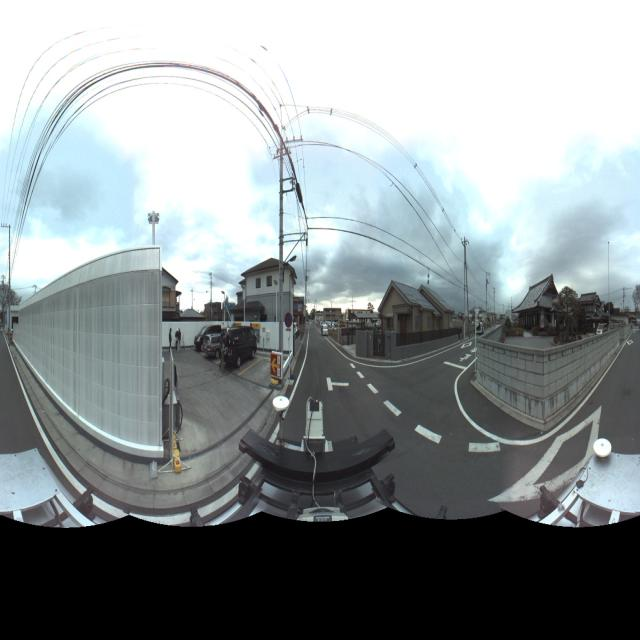b_1: (383, 270, 456, 356), (245, 248, 296, 326), (513, 261, 561, 334), (576, 283, 605, 335)
